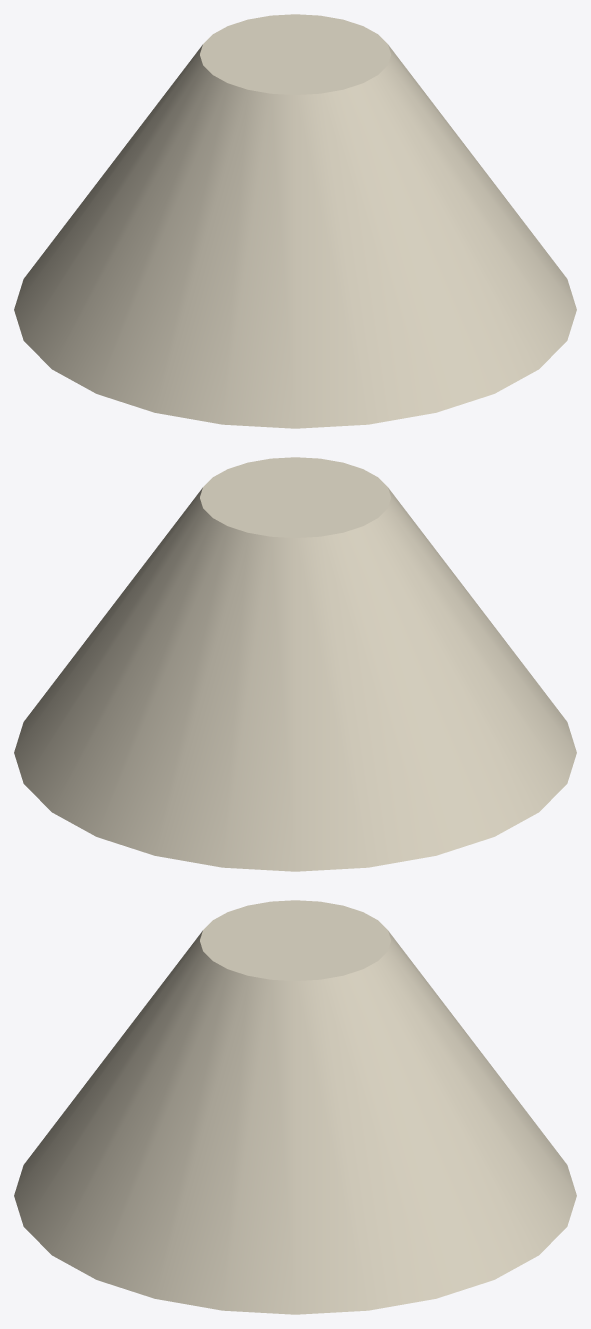
The model's file is Prop_LightShaft.fbx.
3 views of the same model, one above another, from view 1: azimuth 30°, elevation 25°; view 2: azimuth 150°, elevation 25°; view 3: azimuth 270°, elevation 25° (orthographic).
Parts seen in each view (by area): view 1: LightShaft; view 2: LightShaft; view 3: LightShaft.
Part boxes in pixels (x1,y1,x2,y2): LightShaft: (14,14,576,428); LightShaft: (14,457,576,871); LightShaft: (14,900,576,1314).
Size of the model in its own units: 2 by 1 by 2.
